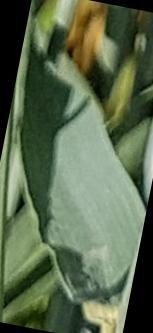Wheat: (34, 43, 124, 316)
